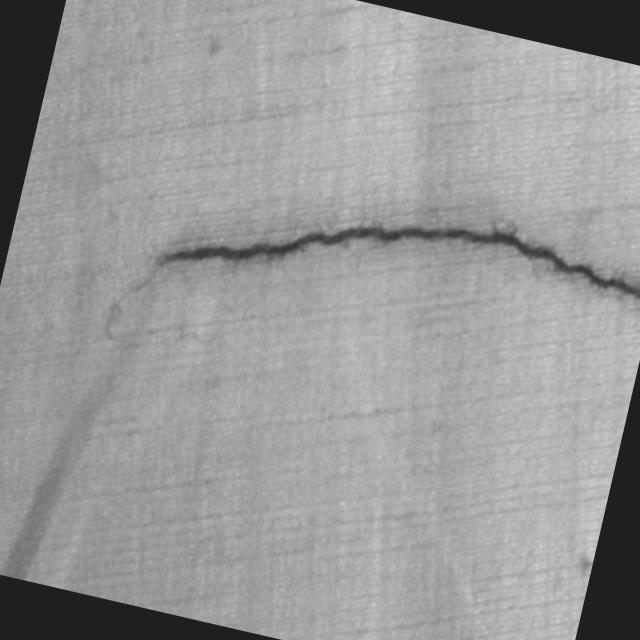objects: (144, 145, 640, 390)
